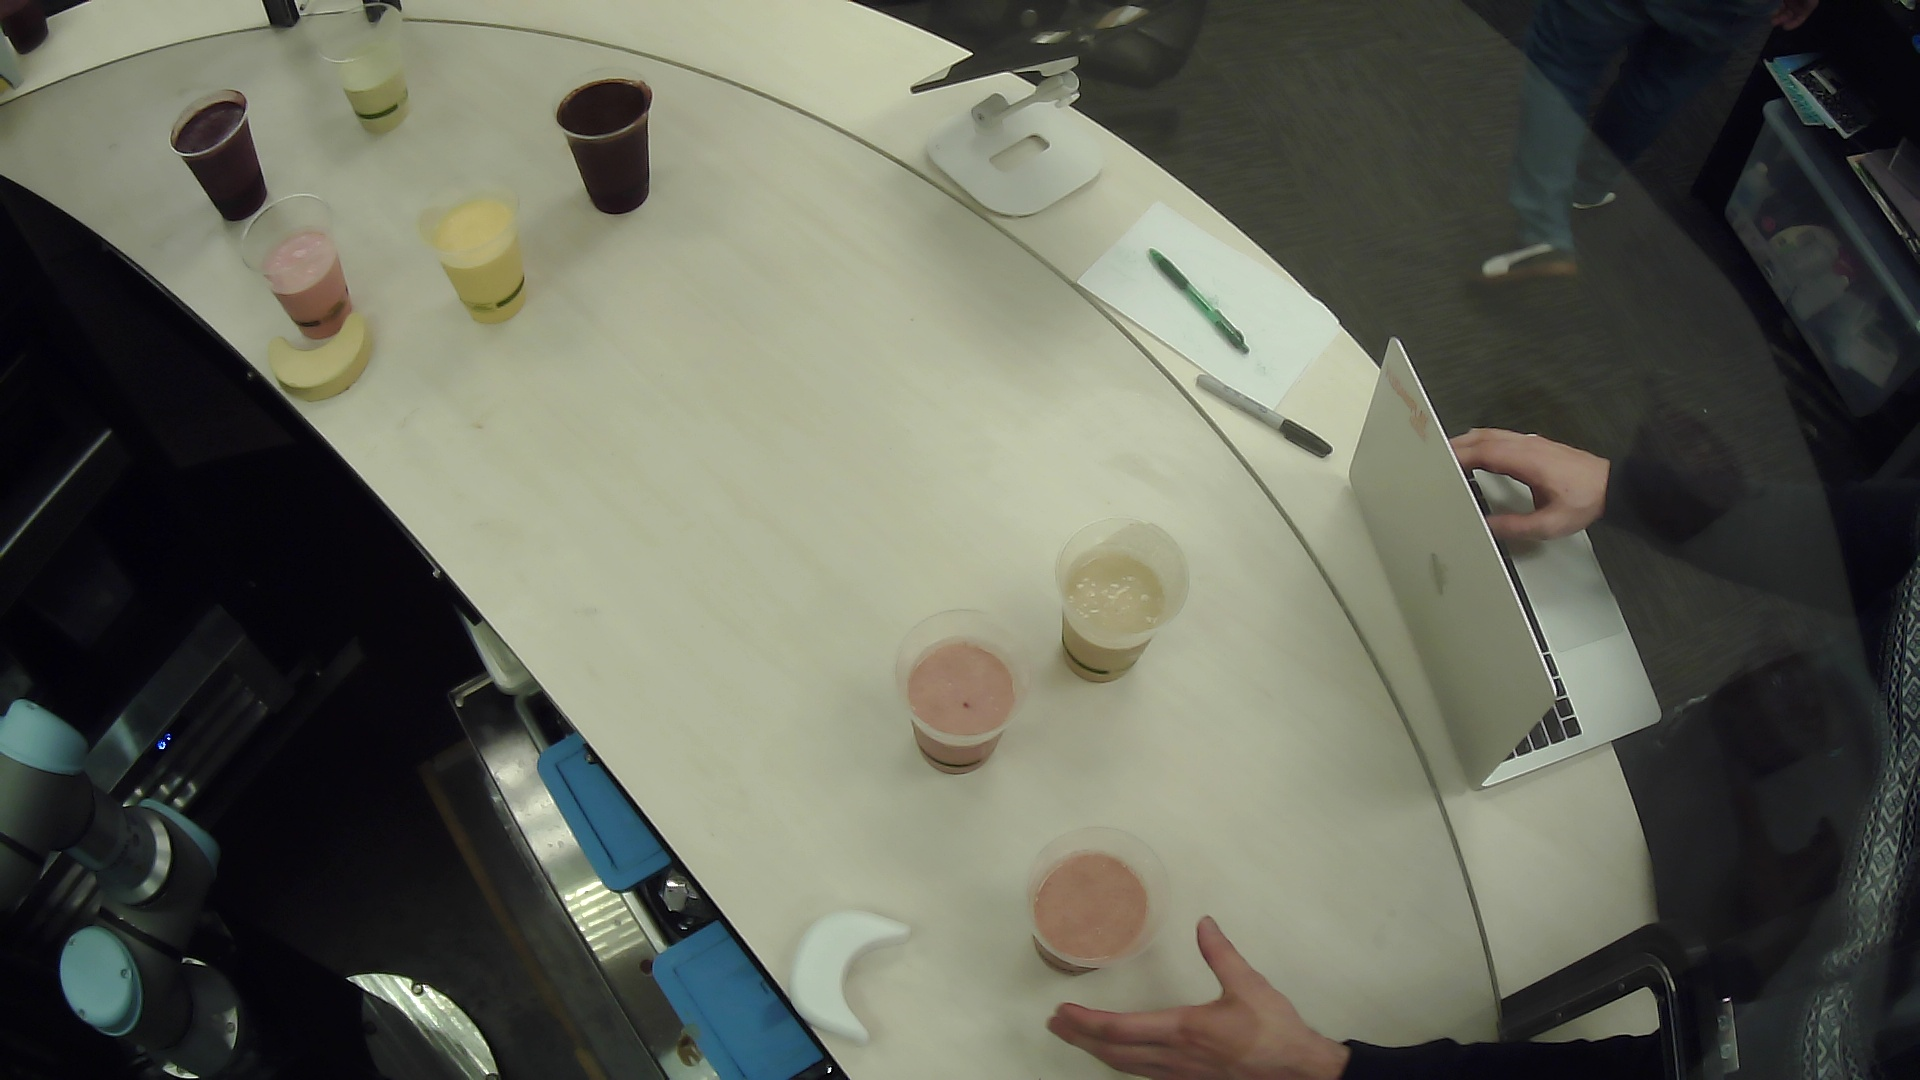Deliver: (779, 876, 943, 1063), (233, 289, 415, 407)
Full_cup: (993, 818, 1207, 1007), (866, 596, 1043, 793), (1044, 485, 1185, 716), (149, 74, 294, 239), (228, 193, 369, 352), (549, 53, 667, 233), (413, 175, 546, 332), (301, 1, 431, 157)
